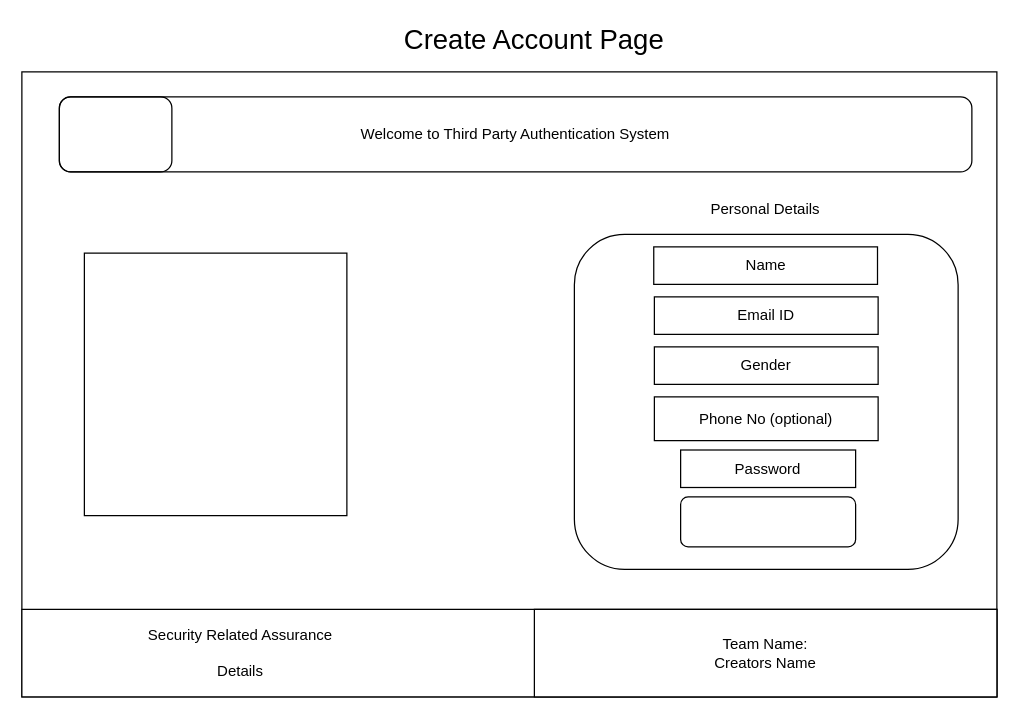
The diagram is 1019 pixels wide and 719 high, and some of its shapes have lost their labels. Here are the shapes that lost their labels. From the top down, the box of each, then its label:
(58, 96, 172, 172): logo
(83, 252, 347, 516): Photo / Design
(679, 496, 856, 547): Open Camera / Select Face Image from folder
